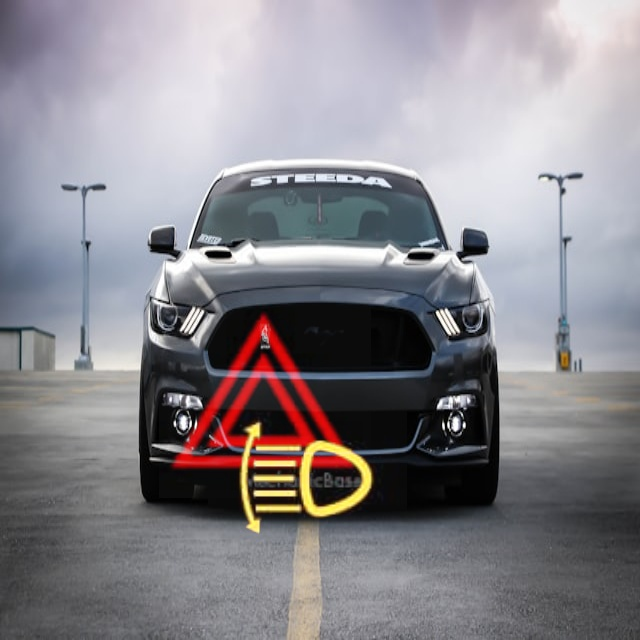symbol: (159, 286, 371, 498), (208, 377, 407, 576)
